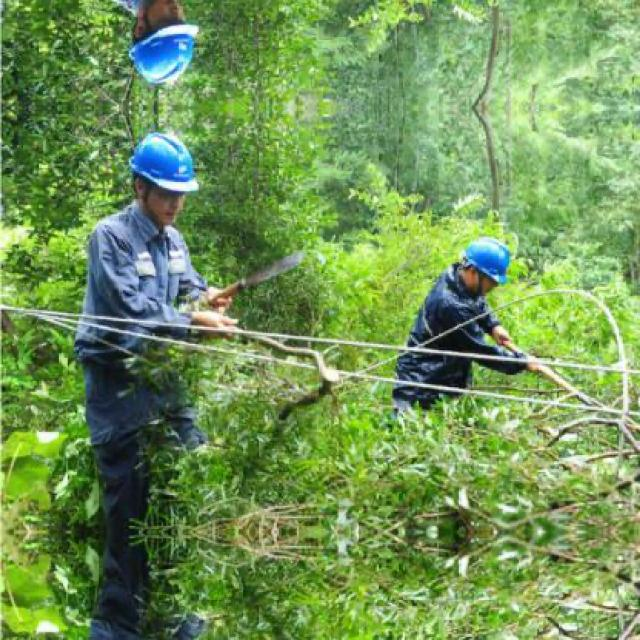con casco: (109, 118, 247, 265), (401, 203, 516, 331)
